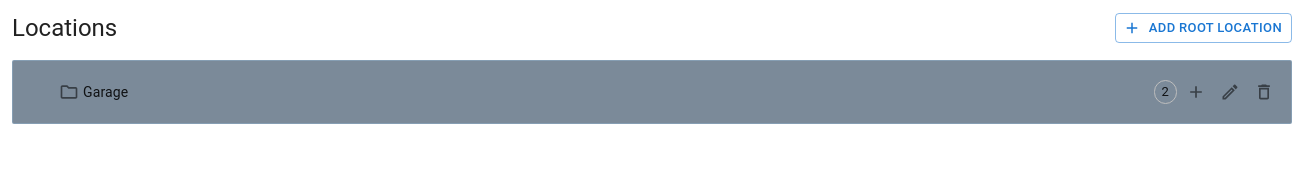
Test: LocationsPage › creates a child location from the tree and invalidates the list
expect the link "Garage" is shown: met, box x1=83 y1=84 x2=128 y2=100
Click the button named "Add child to Garage": {"x": 1196, "y": 92} x1=1181 y1=77 x2=1211 y2=107
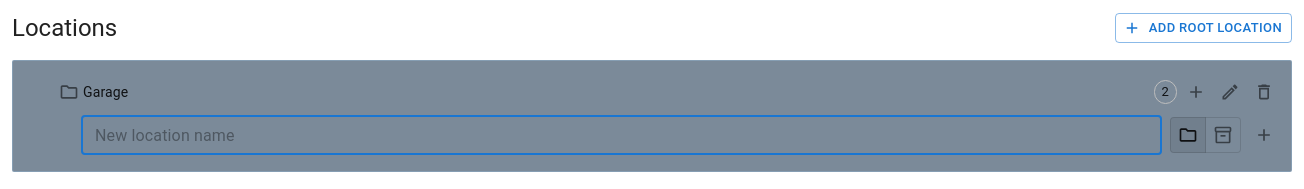
In the field named "New child location name for Garage": {"x": 622, "y": 135} x1=81 y1=115 x2=1162 y2=155, type "Shelf 3"
Then press Enter
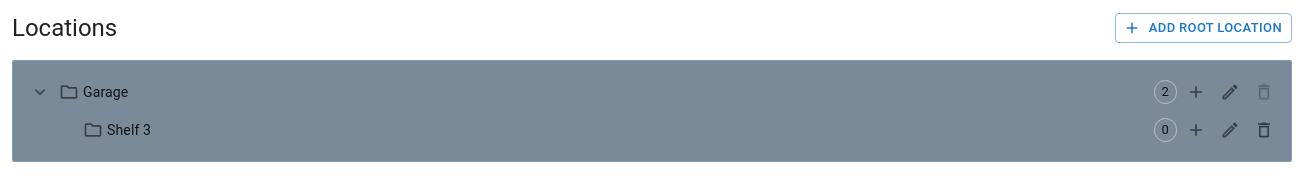
expect the link "Shelf 3" is shown: met, box x1=107 y1=122 x2=151 y2=138
